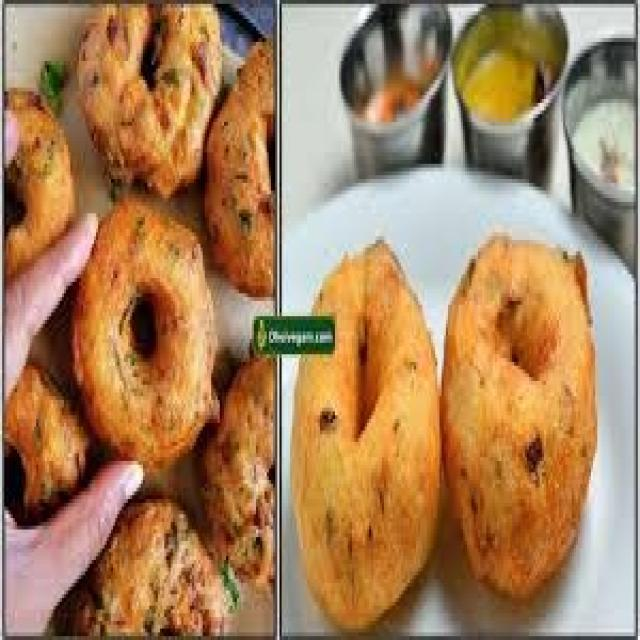medu vadai: (293, 241, 442, 625), (290, 240, 440, 621), (442, 236, 595, 595), (442, 236, 595, 594), (70, 195, 218, 472), (67, 201, 216, 471), (78, 1, 222, 201), (54, 497, 226, 638), (197, 353, 273, 596), (203, 39, 273, 302), (2, 362, 94, 525), (3, 87, 75, 282), (236, 36, 273, 140)
